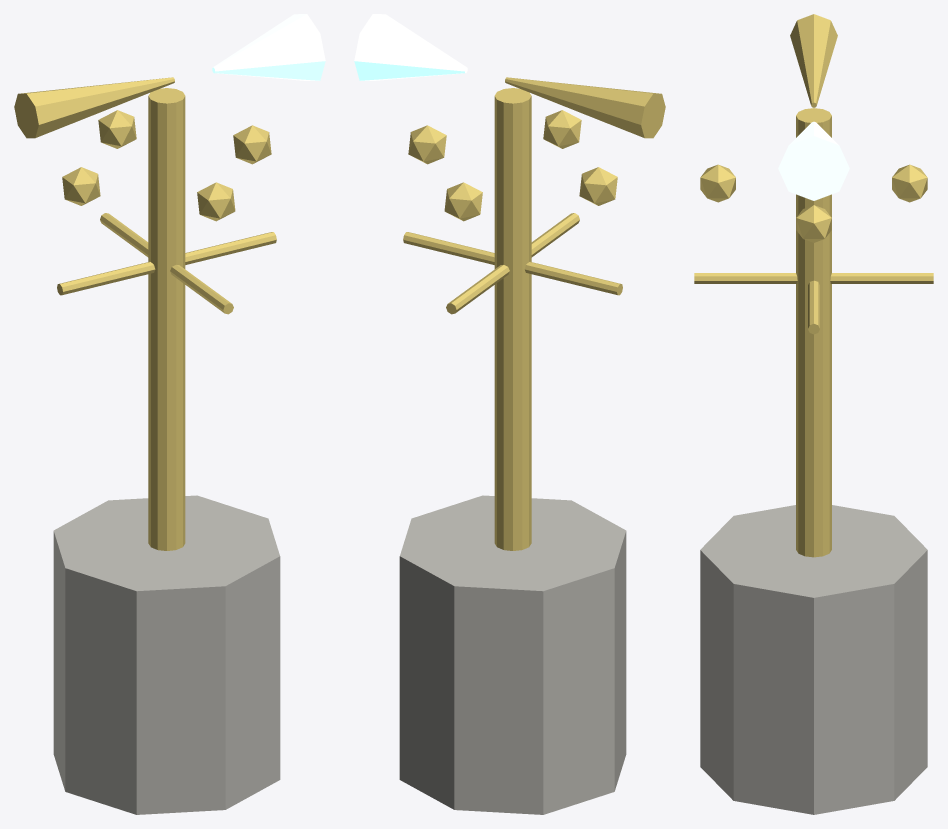
File: rooftop_anemometer.glb
The picture shows the model from 3 angles, left to right: view 1: azimuth 30°, elevation 25°; view 2: azimuth 150°, elevation 25°; view 3: azimuth 270°, elevation 25°; orthographic projection. The views are drawn at different scales.
Parts seen in each view (by area): view 1: Cylinder, Cylinder.001, WindVane, Cone, Cylinder.003, Cylinder.002, Icosphere.002, Icosphere, Icosphere.001, Icosphere.003; view 2: Cylinder, Cylinder.001, WindVane, Cone, Cylinder.003, Cylinder.002, Icosphere.002, Icosphere, Icosphere.001, Icosphere.003; view 3: Cylinder, Cylinder.001, WindVane, Cone, Cylinder.002, Icosphere.001, Icosphere.003, Icosphere, Cylinder.003.
Boxes of the visible parts, box(x1,y1,x2,y2) form: Cylinder: box(53, 495, 280, 814); Cylinder.001: box(148, 88, 185, 550); WindVane: box(212, 14, 325, 80); Cone: box(14, 77, 174, 138); Cylinder.003: box(57, 232, 276, 295); Cylinder.002: box(100, 213, 233, 314); Icosphere.002: box(62, 167, 100, 205); Icosphere: box(233, 125, 271, 164); Icosphere.001: box(98, 110, 136, 148); Icosphere.003: box(197, 182, 235, 221); Cylinder: box(399, 495, 626, 814); Cylinder.001: box(494, 88, 531, 550); WindVane: box(354, 14, 467, 80); Cone: box(505, 77, 665, 138); Cylinder.003: box(403, 232, 622, 295); Cylinder.002: box(446, 213, 579, 314); Icosphere.002: box(579, 167, 617, 205); Icosphere: box(408, 125, 446, 164); Icosphere.001: box(444, 182, 482, 221); Icosphere.003: box(543, 110, 581, 148); Cylinder: box(700, 505, 927, 814); Cylinder.001: box(796, 108, 831, 557); WindVane: box(778, 121, 849, 200); Cone: box(790, 14, 837, 107); Cylinder.002: box(694, 273, 933, 283); Icosphere.001: box(892, 164, 927, 202); Icosphere.003: box(700, 164, 735, 202); Icosphere: box(796, 205, 831, 242); Cylinder.003: box(808, 280, 819, 334).
Bounding box in the file's own units: 1.05 × 2.57 × 0.8.
